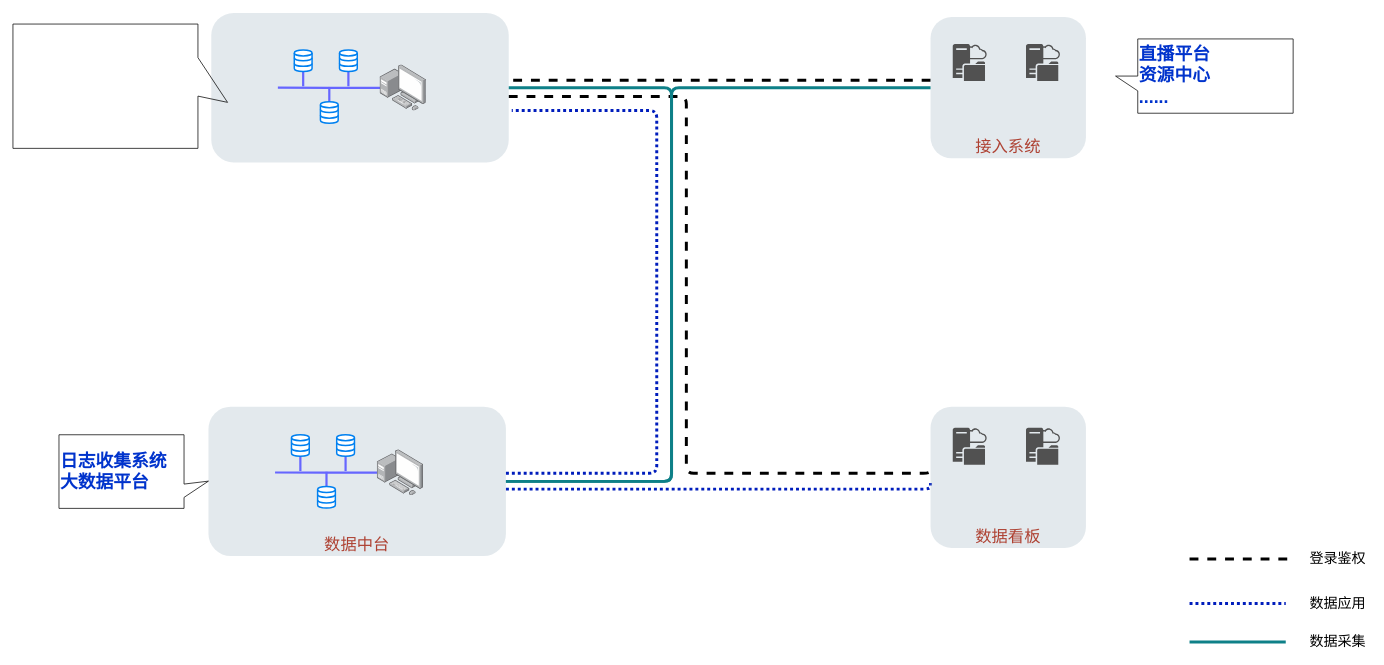
Some shapes in this 1384 by 665 pixel diagram are drawn without their labels. Each missing label, with the box of its shape:
单点登录系统 api网关 资源服务: (12, 23, 228, 148)
统一认证中心: (211, 13, 508, 162)
